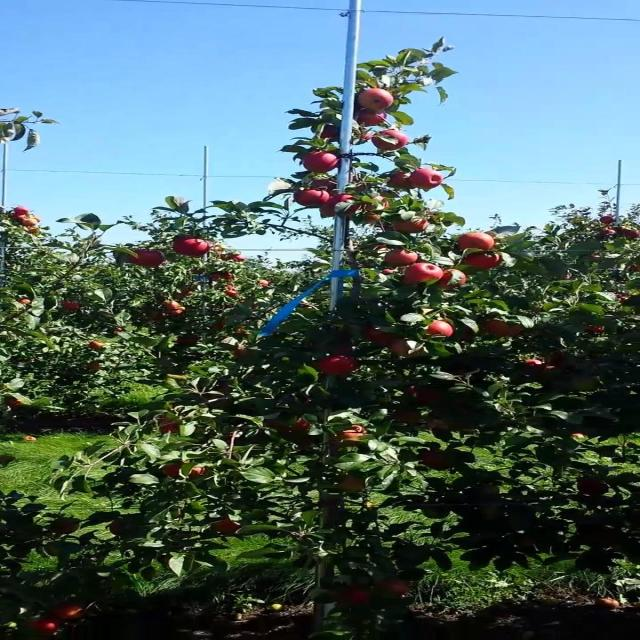apple: (402, 262, 444, 285), (173, 236, 211, 258), (371, 129, 409, 151), (162, 462, 209, 479), (316, 355, 358, 374), (320, 194, 353, 218), (302, 151, 338, 172), (358, 89, 393, 110), (409, 168, 444, 189), (389, 339, 427, 358), (129, 249, 164, 268), (407, 385, 442, 404), (264, 418, 311, 432), (336, 425, 367, 446), (362, 328, 398, 346), (458, 232, 496, 249), (293, 189, 331, 206), (464, 252, 502, 269), (376, 579, 409, 598), (418, 450, 451, 469), (438, 269, 467, 290), (484, 320, 522, 336), (51, 602, 84, 620), (384, 249, 418, 266), (578, 478, 609, 496), (393, 218, 429, 233), (356, 109, 387, 126), (387, 171, 416, 189), (362, 192, 389, 211), (211, 518, 242, 534), (29, 618, 60, 634), (336, 475, 364, 492), (391, 409, 422, 424), (51, 518, 80, 534), (571, 375, 600, 391), (427, 320, 453, 337), (347, 589, 371, 605), (287, 418, 311, 432), (522, 359, 551, 369), (109, 519, 127, 535), (320, 124, 338, 139), (309, 179, 336, 189), (160, 420, 178, 434), (427, 420, 449, 431), (362, 212, 382, 223), (331, 345, 353, 355), (189, 465, 207, 477), (60, 300, 78, 311), (378, 266, 396, 276), (4, 398, 22, 408), (569, 432, 589, 441), (518, 538, 536, 547), (362, 131, 376, 141)
